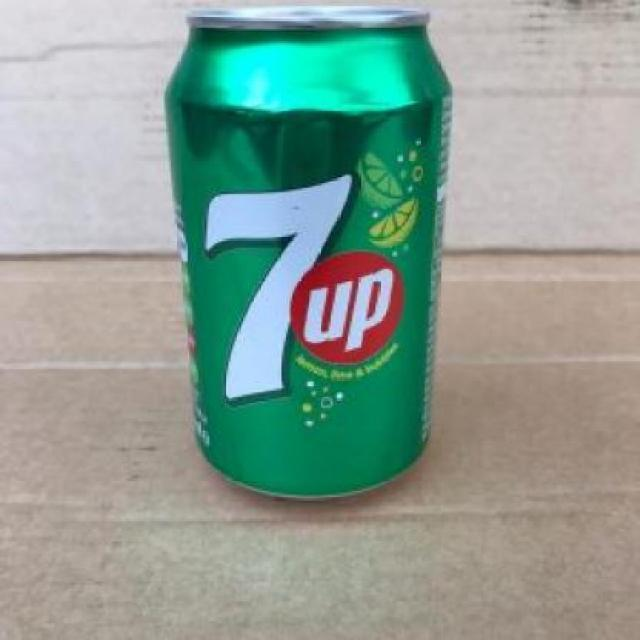can: (165, 0, 456, 504)
